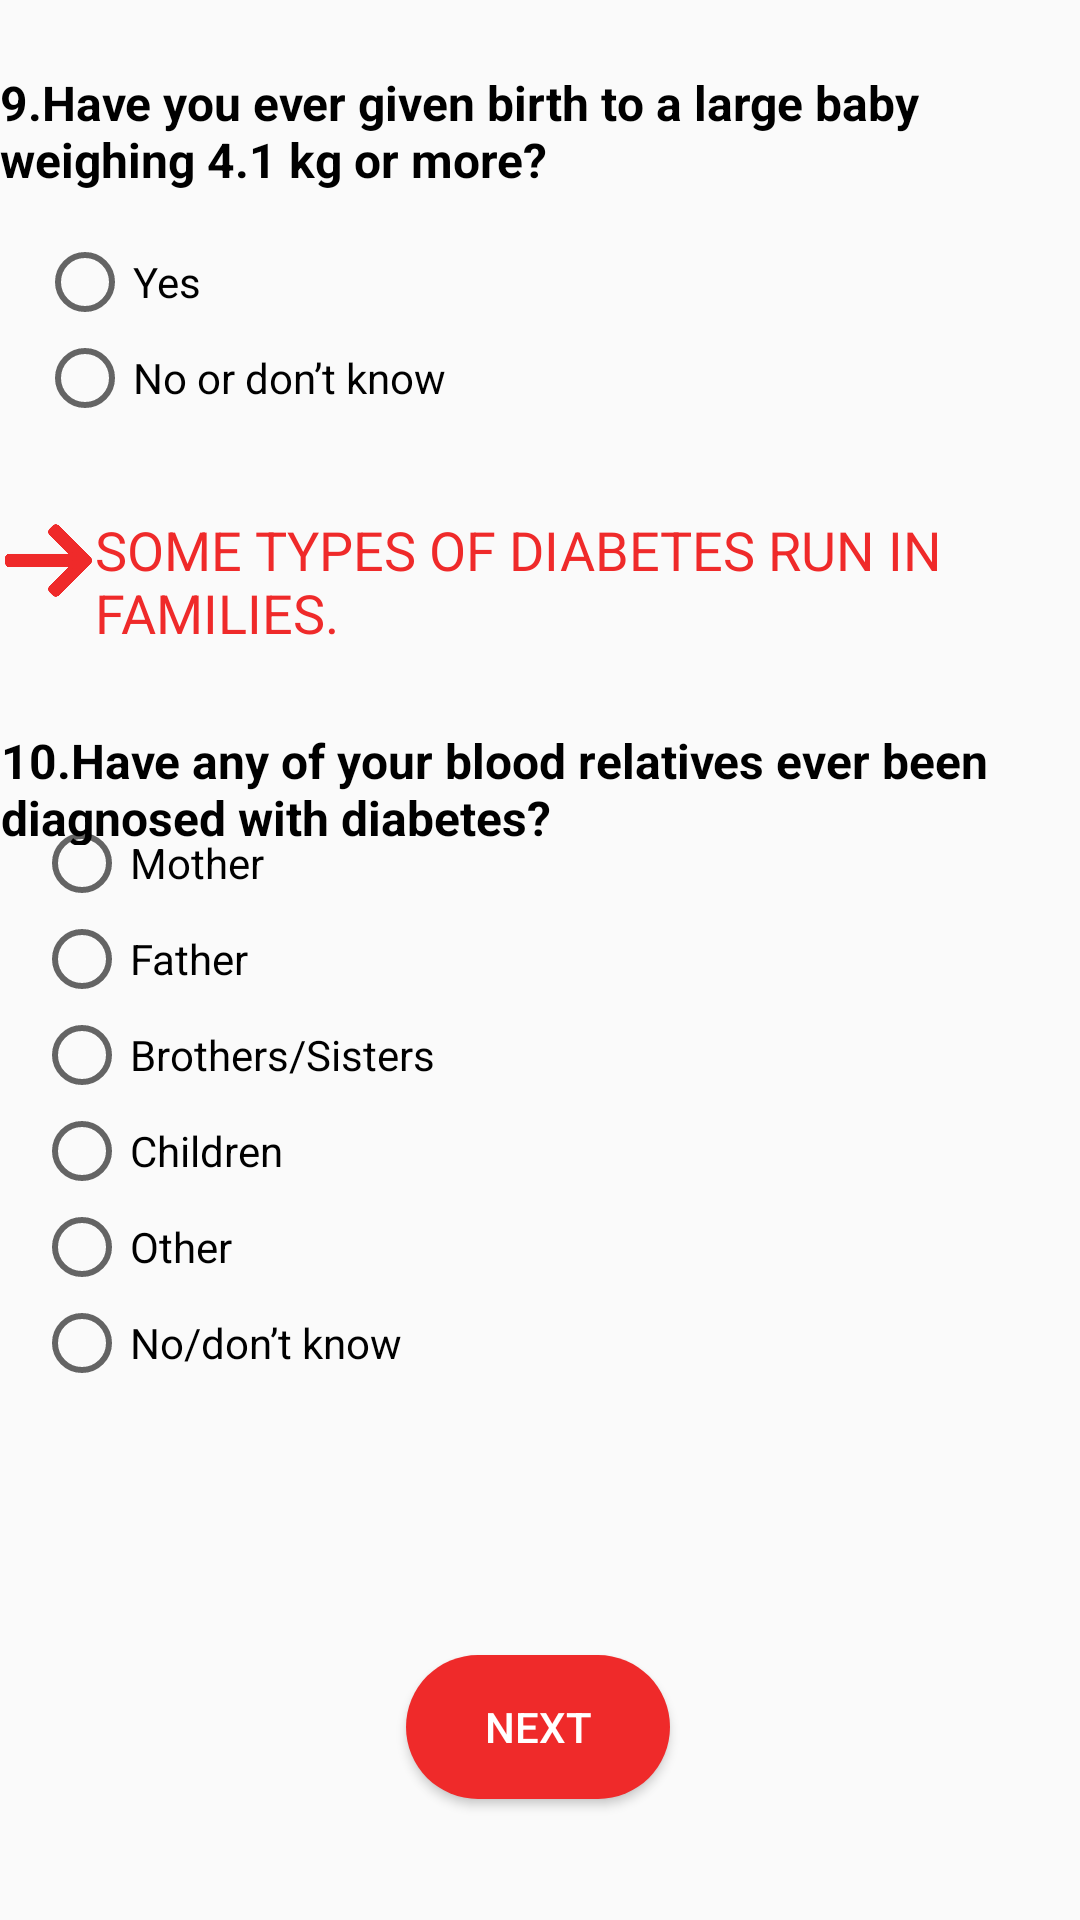

Icons on this 1080px x 1920px Android screen, each with the point to tap as point (x, y):
right arrow: point (48, 560)
